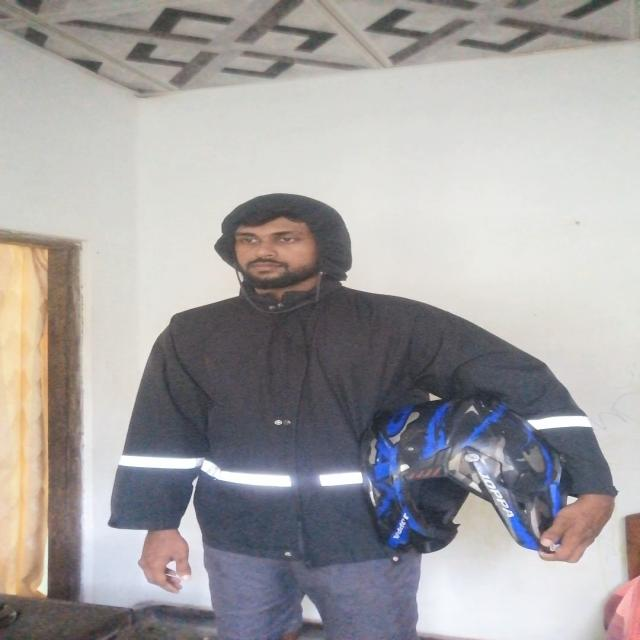Jacket_Wearer: (117, 300, 569, 578)
Person: (64, 169, 594, 640)
